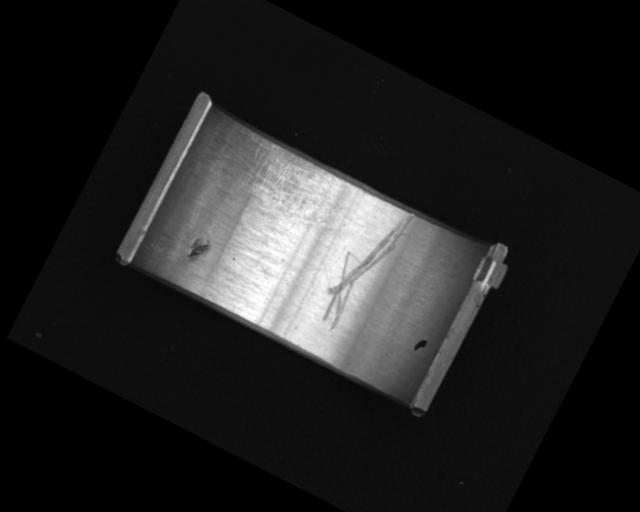blot: (411, 335, 429, 355)
bruise: (182, 232, 213, 266)
nick: (311, 193, 417, 341)
scratch: (225, 132, 363, 245)
